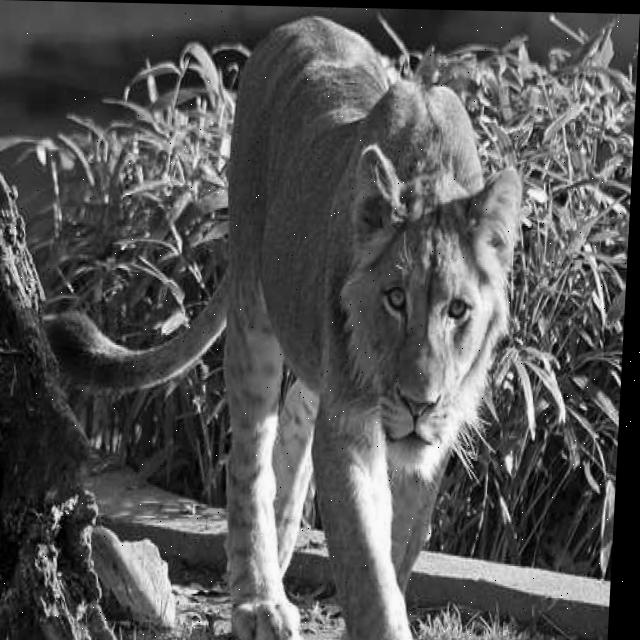Lion: (174, 65, 582, 617)
